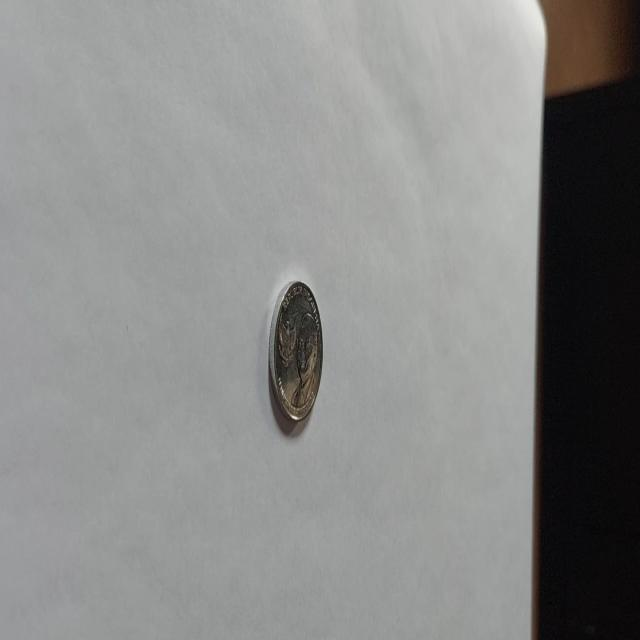lima ratus rupiah: (266, 278, 324, 424)
